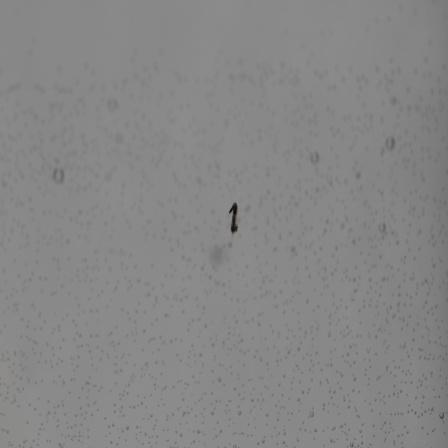Jentik-Nyamuk: (221, 196, 245, 238)
